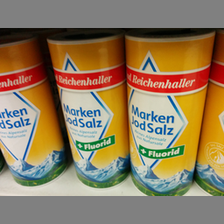spices: (126, 30, 214, 196), (47, 35, 129, 190), (1, 37, 66, 187)
